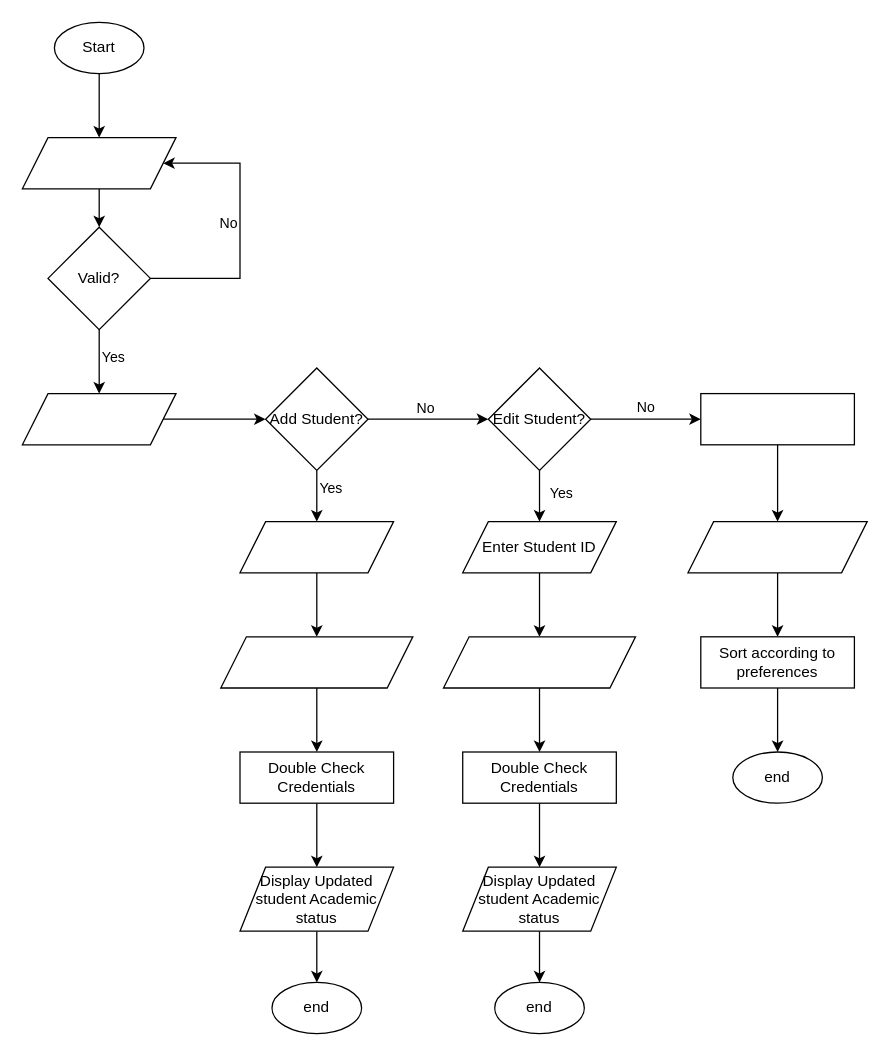
Image size: 890x1056. Some labels were removed from this diagram. The centre of each missing label's shape, as x and y in pixels:
Display dashboard: [98,418]
Display student on probation: [777,546]
Display student table: [777,418]
Input Student Credentials: [316,546]
Login Credentials: [98,162]
Set Academic Status: [316,662]
Update Academic Status: [539,662]
